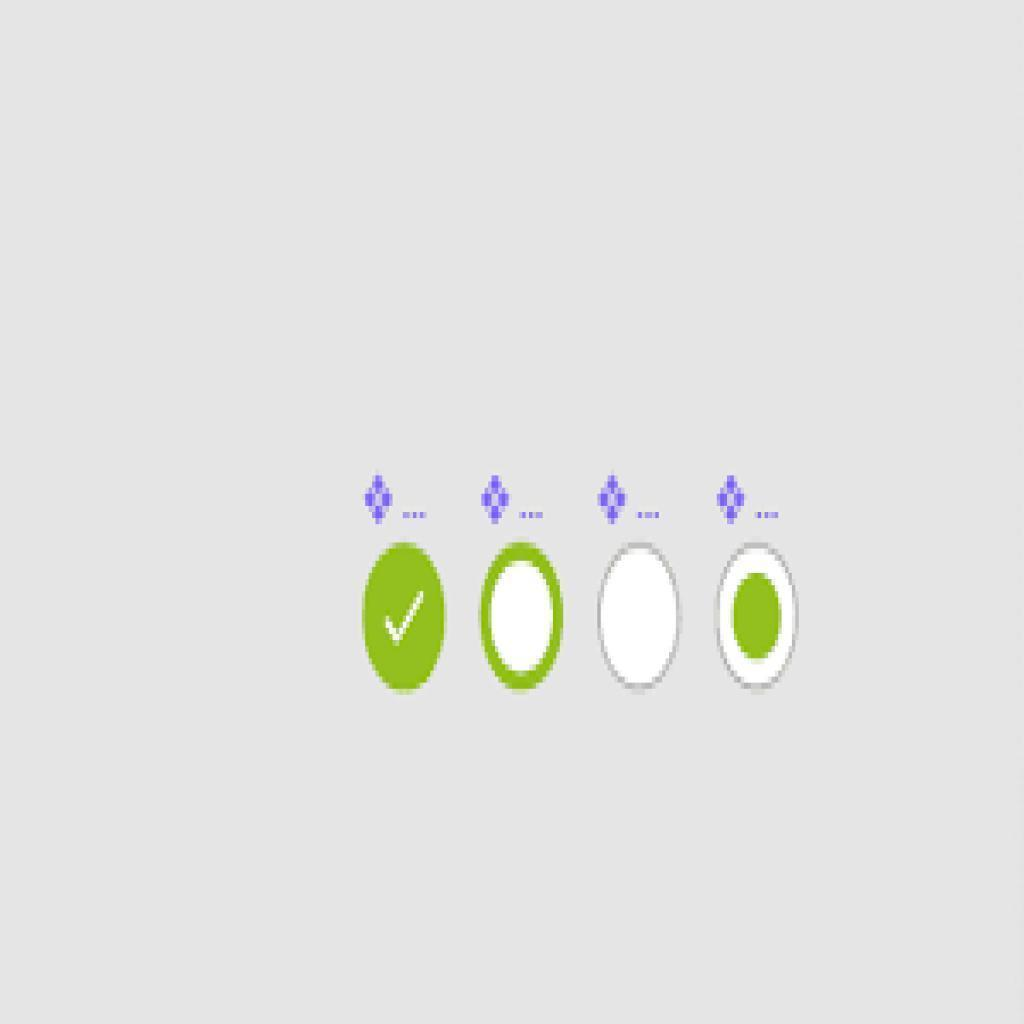checkbox: (358, 540, 451, 695)
radio: (595, 540, 686, 698), (477, 538, 567, 695), (710, 539, 801, 688)
